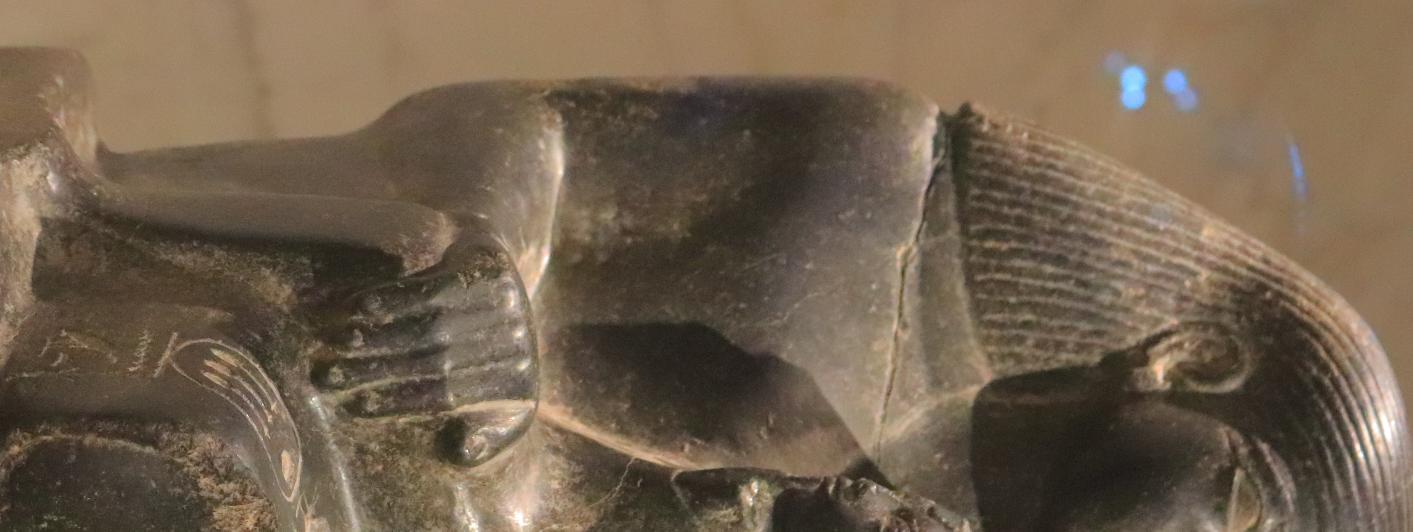Senenmut: (0, 0, 795, 532)
